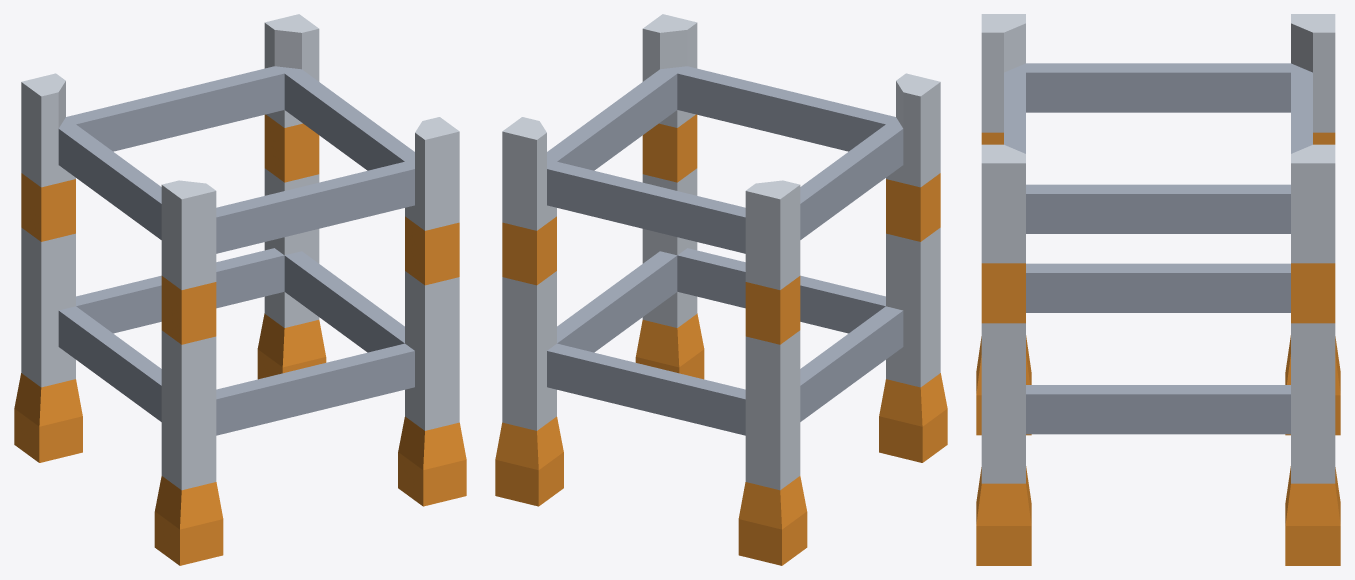
Rendered from supports_high.glb.
3 views of the same model, side by side, from view 1: azimuth 30°, elevation 25°; view 2: azimuth 150°, elevation 25°; view 3: azimuth 270°, elevation 25° (orthographic). The views are drawn at different scales.
Parts seen in each view (by area): view 1: supports_high; view 2: supports_high; view 3: supports_high.
Part boxes in pixels (box(x1,y1,x2,y2)): supports_high: box(14, 14, 466, 565); supports_high: box(495, 14, 947, 565); supports_high: box(976, 14, 1340, 565).
Size of the model in its own units: 0.825 by 1 by 0.825.
